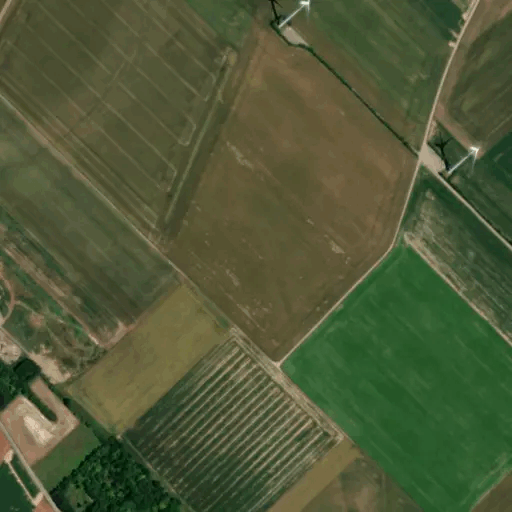wt: (431, 130, 484, 190), (261, 1, 315, 35)
